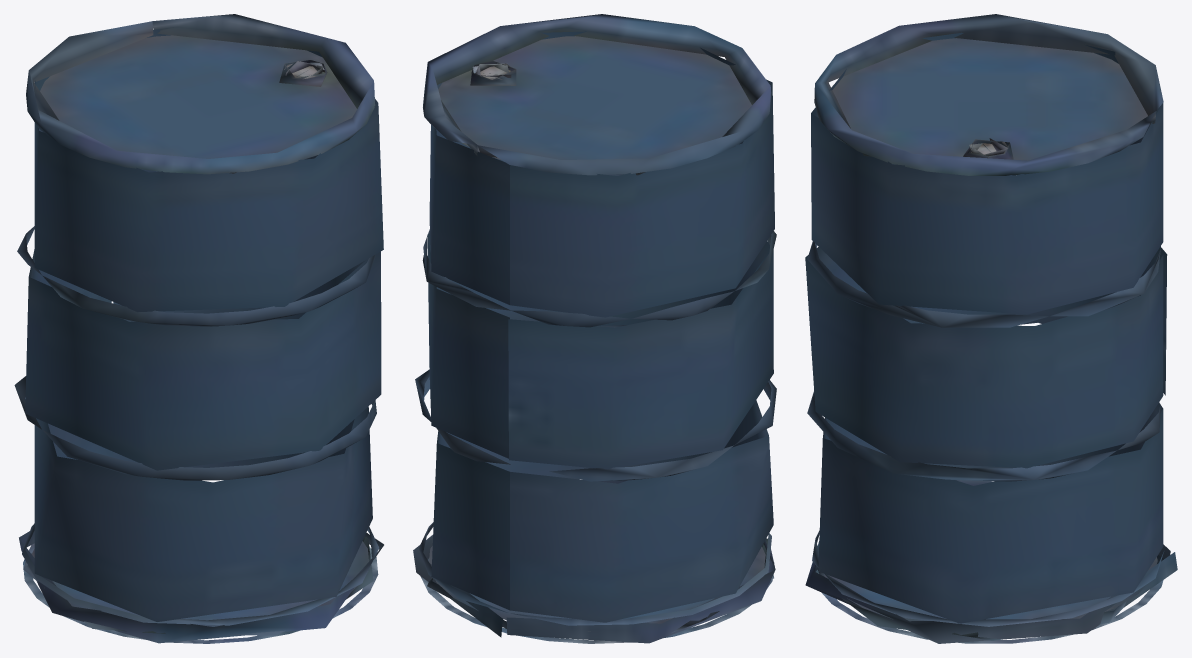
Rendered from barrel_03.glb.
3 views of the same model, side by side, from view 1: azimuth 30°, elevation 25°; view 2: azimuth 150°, elevation 25°; view 3: azimuth 270°, elevation 25° (orthographic).
Visible parts, largest first — view 1: barrel_03; view 2: barrel_03; view 3: barrel_03.
Part boxes in pixels (x1=…): barrel_03: x1=14, y1=14, x2=383, y2=643; barrel_03: x1=413, y1=14, x2=776, y2=643; barrel_03: x1=805, y1=14, x2=1177, y2=643.
Size of the model in its own units: 0.6416 by 0.9324 by 0.654.
Materials: 1 (1 with a texture image).
